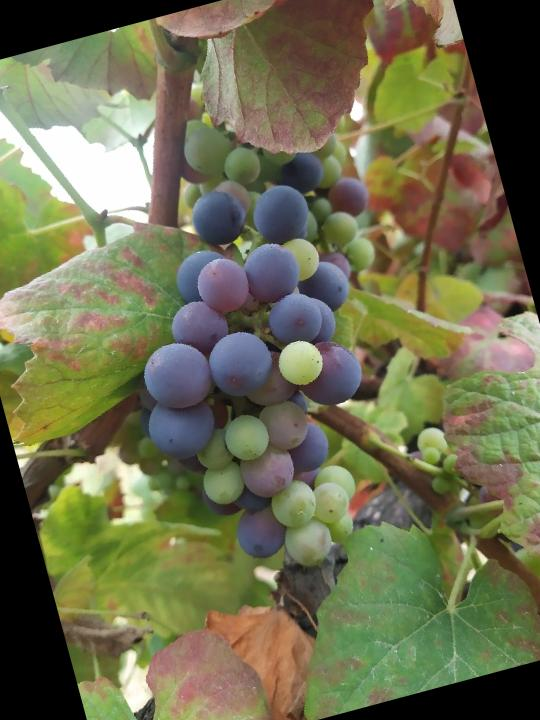grape: (91, 160, 422, 602)
